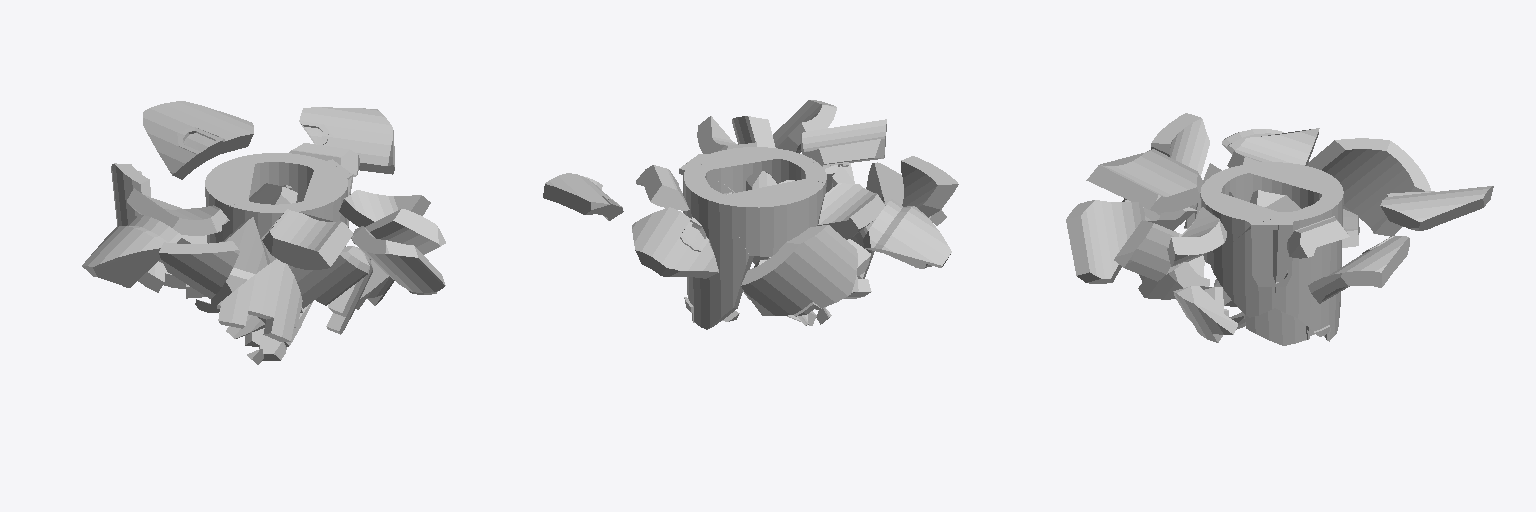
File: destruction_tower_000054.obj
3 renders of one model, left to right at view 1: azimuth 30°, elevation 25°; view 2: azimuth 150°, elevation 25°; view 3: azimuth 270°, elevation 25°, orthographic.
Parts seen in each view (by area): view 1: tower.001_cell.025_Mesh.025, tower.001_cell.012_Mesh.012, tower.001_cell.006_Mesh.006, tower.001_cell.005_Mesh.005, tower.001_cell.024_Mesh.024, tower.001_cell.002_Mesh.002, tower.001_cell.021_Mesh.021, tower.001_cell.011_Mesh.011, tower.001_cell.009_Mesh.009, tower.001_cell.015_Mesh.015, tower.001_cell.013_Mesh.013, tower.001_cell.028_Mesh.028 (+12 smaller); view 2: tower.001_cell.003_Mesh.003, tower.001_cell.017_Mesh.017, tower.001_cell.015_Mesh.015, tower.001_cell.025_Mesh.025, tower.001_cell.005_Mesh.005, tower.001_cell.028_Mesh.028, tower.001_cell.024_Mesh.024, tower.001_cell.009_Mesh.009, tower.001_cell.002_Mesh.002, tower.001_cell.012_Mesh.012, tower.001_cell.021_Mesh.021, tower.001_cell.016_Mesh.016 (+4 smaller); view 3: tower.001_cell.003_Mesh.003, tower.001_cell.024_Mesh.024, tower.001_cell.021_Mesh.021, tower.001_cell.020_Mesh.020, tower.001_cell.017_Mesh.017, tower.001_cell.025_Mesh.025, tower.001_cell.012_Mesh.012, tower.001_cell.015_Mesh.015, tower.001_cell.028_Mesh.028, tower.001_cell_Mesh, tower.001_cell.009_Mesh.009, tower.001_cell.030_Mesh.030 (+11 smaller).
Part boxes in pixels (bbox=[...]): tower.001_cell.025_Mesh.025: bbox=[143, 101, 253, 179]; tower.001_cell.012_Mesh.012: bbox=[299, 107, 394, 174]; tower.001_cell.006_Mesh.006: bbox=[217, 259, 302, 341]; tower.001_cell.005_Mesh.005: bbox=[82, 215, 182, 287]; tower.001_cell.024_Mesh.024: bbox=[262, 209, 352, 269]; tower.001_cell.002_Mesh.002: bbox=[159, 241, 239, 298]; tower.001_cell.021_Mesh.021: bbox=[352, 227, 445, 294]; tower.001_cell.011_Mesh.011: bbox=[288, 246, 369, 308]; tower.001_cell.009_Mesh.009: bbox=[127, 188, 229, 235]; tower.001_cell.015_Mesh.015: bbox=[205, 158, 254, 243]; tower.001_cell.013_Mesh.013: bbox=[195, 216, 267, 312]; tower.001_cell.028_Mesh.028: bbox=[274, 170, 352, 223]; tower.001_cell.003_Mesh.003: bbox=[741, 225, 857, 316]; tower.001_cell.017_Mesh.017: bbox=[684, 173, 753, 329]; tower.001_cell.015_Mesh.015: bbox=[722, 179, 824, 256]; tower.001_cell.025_Mesh.025: bbox=[632, 207, 718, 278]; tower.001_cell.005_Mesh.005: bbox=[863, 199, 951, 268]; tower.001_cell.028_Mesh.028: bbox=[699, 147, 815, 192]; tower.001_cell.024_Mesh.024: bbox=[801, 119, 886, 166]; tower.001_cell.009_Mesh.009: bbox=[817, 183, 884, 239]; tower.001_cell.002_Mesh.002: bbox=[901, 156, 958, 217]; tower.001_cell.012_Mesh.012: bbox=[543, 173, 623, 220]; tower.001_cell.021_Mesh.021: bbox=[773, 100, 836, 153]; tower.001_cell.016_Mesh.016: bbox=[636, 165, 689, 210]; tower.001_cell.003_Mesh.003: bbox=[1307, 138, 1430, 236]; tower.001_cell.024_Mesh.024: bbox=[1086, 149, 1202, 212]; tower.001_cell.021_Mesh.021: bbox=[1066, 200, 1145, 283]; tower.001_cell.020_Mesh.020: bbox=[1211, 219, 1277, 317]; tower.001_cell.017_Mesh.017: bbox=[1298, 191, 1343, 341]; tower.001_cell.025_Mesh.025: bbox=[1380, 186, 1493, 230]; tower.001_cell.012_Mesh.012: bbox=[1308, 236, 1409, 303]; tower.001_cell.015_Mesh.015: bbox=[1249, 162, 1342, 208]; tower.001_cell.028_Mesh.028: bbox=[1200, 178, 1279, 263]; tower.001_cell_Mesh: bbox=[1114, 220, 1182, 281]; tower.001_cell.009_Mesh.009: bbox=[1227, 128, 1319, 167]; tower.001_cell.030_Mesh.030: bbox=[1173, 286, 1237, 342].
Bounding box in the file's own units: 120 × 54.58 × 128.